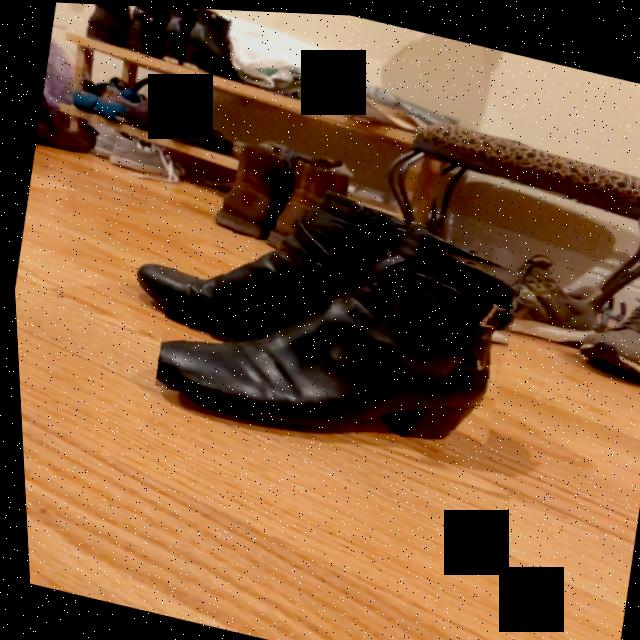shoe: (153, 236, 518, 426)
